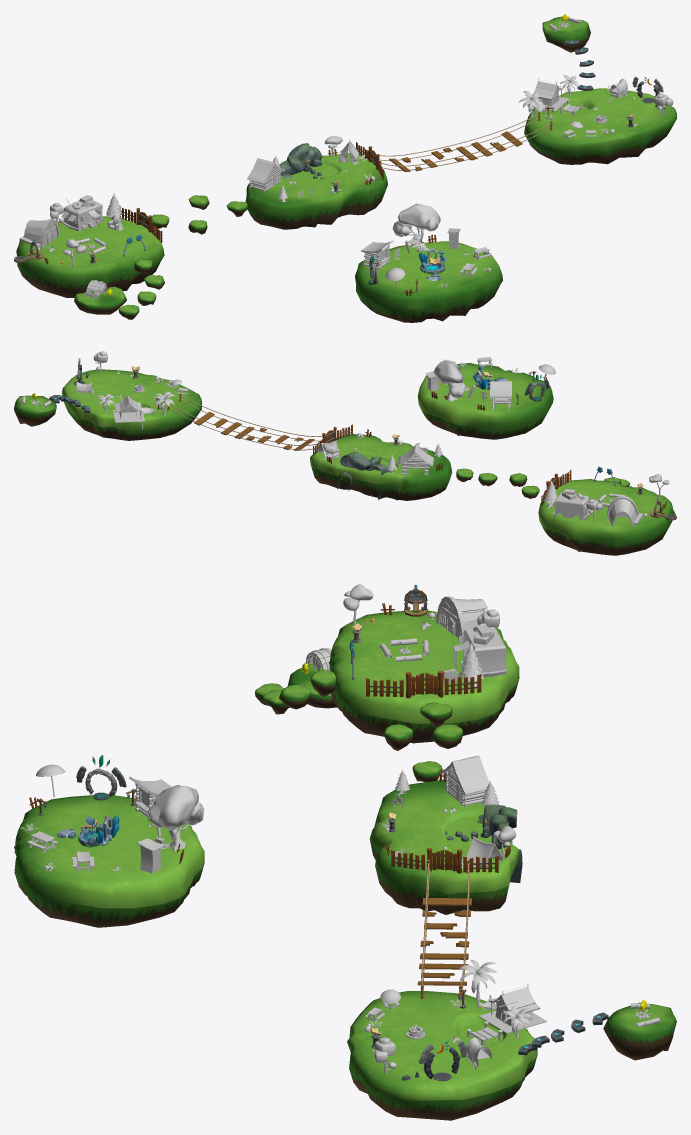
Rendered from Camp.fbx.
3 renders of one model, top to bottom at view 1: azimuth 30°, elevation 25°; view 2: azimuth 150°, elevation 25°; view 3: azimuth 270°, elevation 25°, orthographic. The views are drawn at different scales.
Visible parts, largest first — view 1: Land13, Land12, Land01, Land02, Stair01, Camp_Last:polySurface4968, Car, mini05, Big01, Cabin3, Cave03, Cabin (+4 smaller); view 2: Land13, Land12, Land01, Land02, Stair01, mini05, Camp_Last:polySurface4968, Car, Cabin3, Cave03, Cabin, Cabin2 (+3 smaller); view 3: Land12, Land13, Land01, Land02, mini05, Stair01, Camp_Last:polySurface4968, Cabin3, Car, Door02, Cabin2, Door03 (+7 smaller).
Boxes of the visible parts, box(x1,y1,x2,y2) form: Land13: box(524, 88, 676, 164); Land12: box(355, 241, 502, 322); Land01: box(16, 216, 164, 297); Land02: box(245, 153, 387, 229); Stair01: box(366, 111, 552, 171); Camp_Last:polySurface4968: box(392, 203, 440, 253); Car: box(61, 195, 122, 230); mini05: box(542, 17, 590, 52); Big01: box(74, 286, 126, 314); Cabin3: box(526, 78, 582, 115); Cave03: box(279, 143, 321, 178); Cabin: box(19, 218, 59, 248); Land13: box(61, 369, 201, 440); Land12: box(417, 363, 553, 439); Land01: box(538, 479, 674, 555); Land02: box(310, 434, 451, 500); Stair01: box(167, 393, 322, 450); mini05: box(14, 395, 56, 426); Camp_Last:polySurface4968: box(434, 361, 474, 401); Car: box(553, 489, 589, 520); Cabin3: box(113, 393, 155, 429); Cave03: box(337, 451, 390, 499); Cabin: box(606, 496, 643, 527); Cabin2: box(398, 444, 433, 475); Land12: box(14, 795, 204, 927); Land13: box(347, 991, 537, 1120); Land01: box(329, 609, 519, 743); Land02: box(369, 779, 519, 914); mini05: box(603, 1002, 676, 1060); Stair01: box(417, 859, 471, 999); Camp_Last:polySurface4968: box(150, 785, 204, 851); Cabin3: box(467, 983, 546, 1044); Car: box(437, 614, 506, 683); Door02: box(366, 671, 481, 698); Cabin2: box(439, 755, 489, 806); Door03: box(391, 847, 498, 873).
Bounding box in the file's own units: 874 × 103 × 500.
